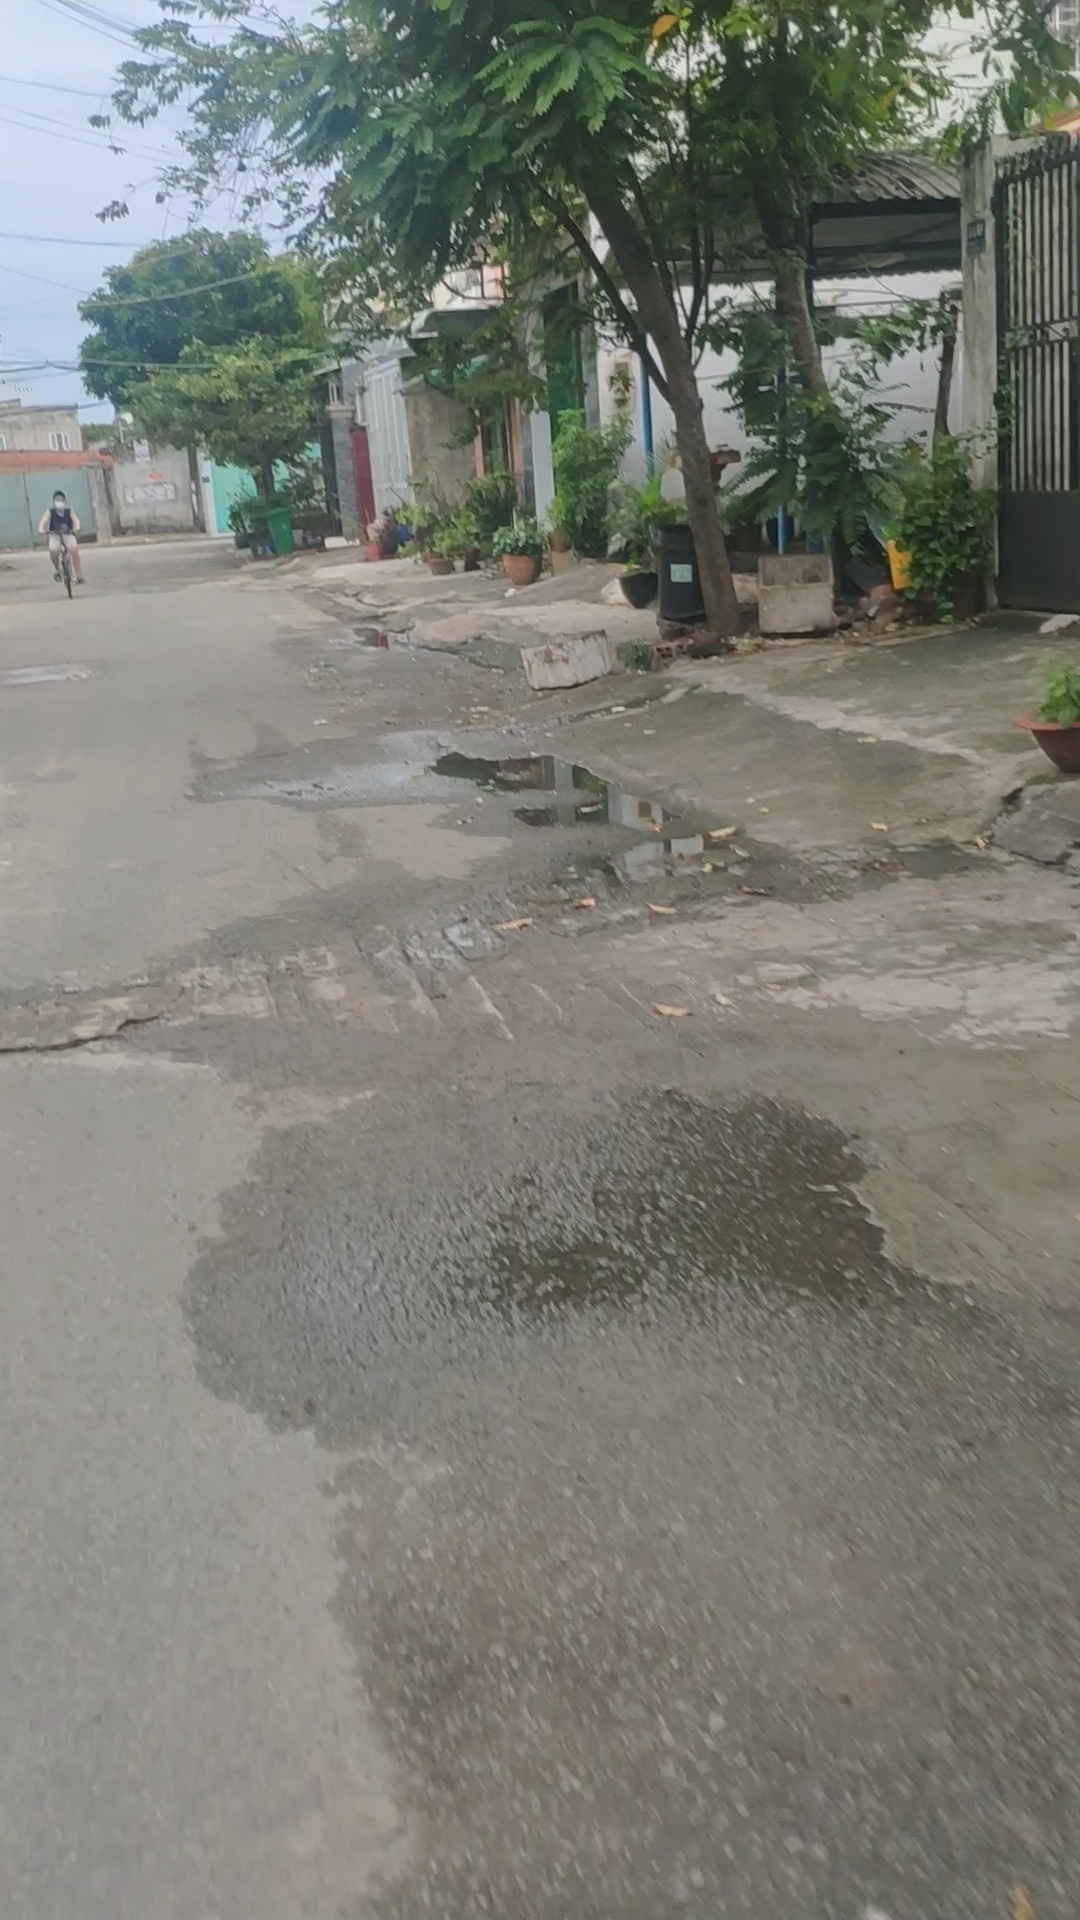hole: (413, 738, 680, 829), (558, 824, 771, 897), (332, 618, 419, 651)
